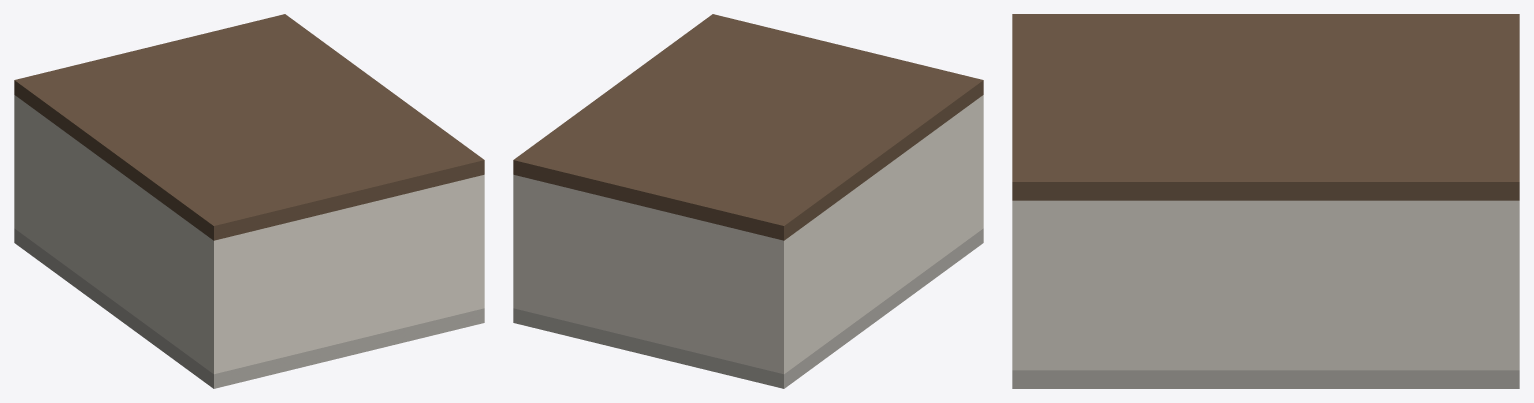
The model's file is capilla.glb.
The picture shows the model from 3 angles, left to right: view 1: azimuth 30°, elevation 25°; view 2: azimuth 150°, elevation 25°; view 3: azimuth 270°, elevation 25°; orthographic projection. The views are drawn at different scales.
Visible parts, largest first — view 1: Techo_interior, Pared_sur, Pared_oeste, Suelo, Pared_norte; view 2: Techo_interior, Pared_norte, Pared_oeste, Suelo, Pared_sur; view 3: Techo_interior, Pared_este, Suelo, Pared_norte, Pared_sur.
Part boxes in pixels (x1,y1,x2,y2): Techo_interior: [14, 14, 484, 240]; Pared_sur: [205, 174, 484, 374]; Pared_oeste: [22, 101, 205, 367]; Suelo: [14, 228, 484, 388]; Pared_norte: [14, 95, 22, 233]; Techo_interior: [513, 14, 983, 240]; Pared_norte: [513, 174, 792, 374]; Pared_oeste: [792, 101, 975, 367]; Suelo: [513, 228, 983, 388]; Pared_sur: [975, 95, 983, 233]; Techo_interior: [1012, 14, 1519, 200]; Pared_este: [1033, 200, 1498, 370]; Suelo: [1012, 370, 1519, 388]; Pared_norte: [1499, 200, 1519, 370]; Pared_sur: [1012, 200, 1032, 370].
Size of the model in its own units: 8.7 by 5 by 11.1.
